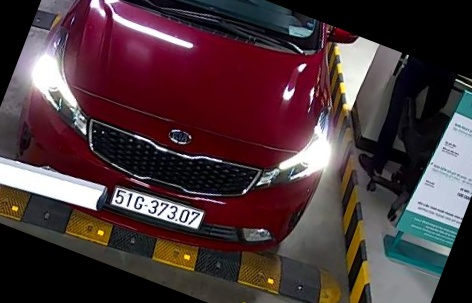plate: (111, 178, 205, 232)
